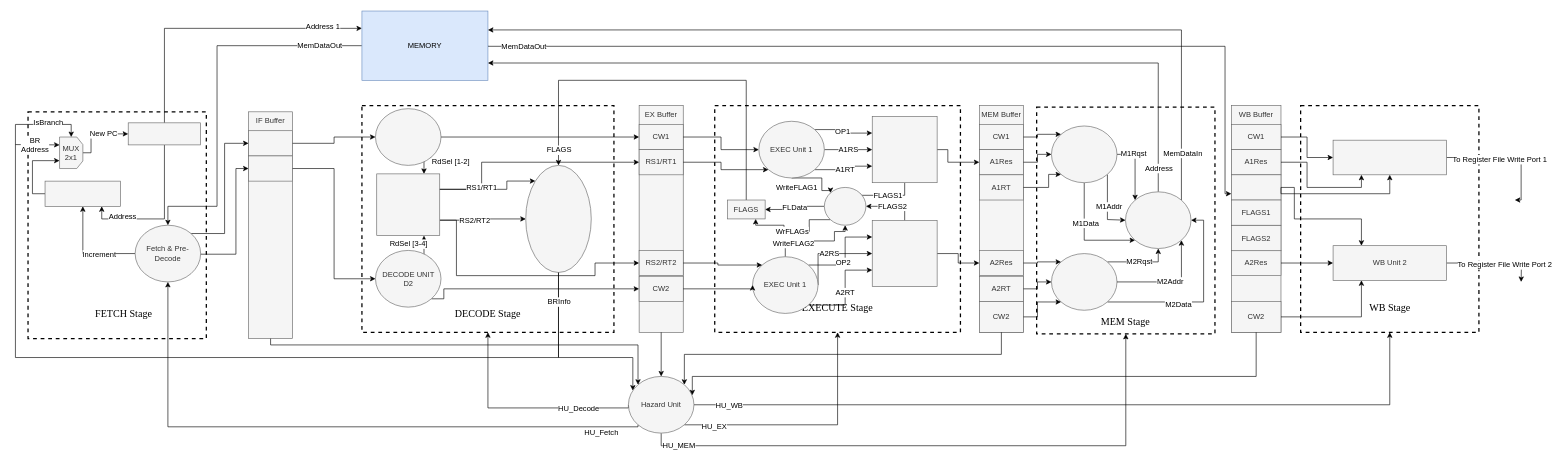
This 1563x462 diagram has some shape labels left out. The shapes that lost their labels are listed below. From the top down, each one's centre as x and y in pixels, then its label:
[164,133]: PROGRAM COUNTER
[270,143]: IR1
[408,136]: DECODE UNIT D1
[904,149]: ALU1
[270,168]: IR2
[1084,154]: Memory Unit 1
[1389,157]: WB Unit 1
[82,193]: Incrementor
[408,204]: REGISTER FILE
[845,206]: FLAGS Manager
[1256,187]: MData
[558,218]: Branch Execution Unit
[1158,220]: Memory Manager
[904,253]: ALU2
[1084,281]: Memory Unit 2
